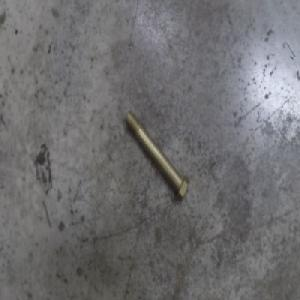Bolt: (124, 110, 189, 202)
